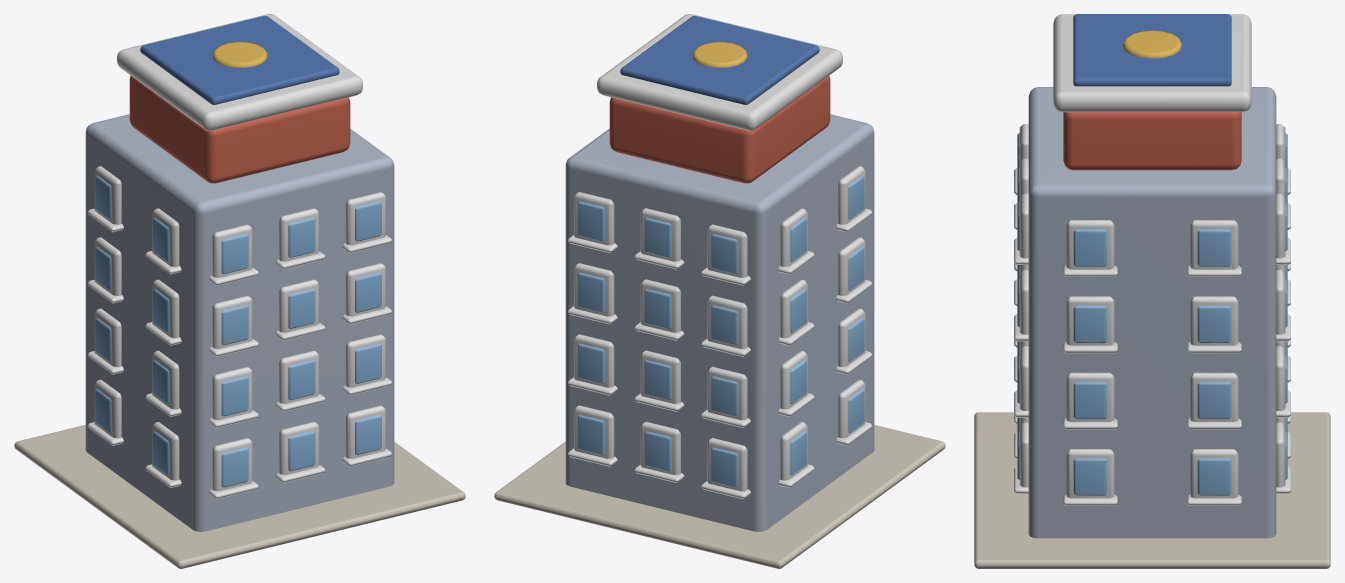
The picture shows the model from 3 angles, left to right: view 1: azimuth 30°, elevation 25°; view 2: azimuth 150°, elevation 25°; view 3: azimuth 270°, elevation 25°; orthographic projection. The views are drawn at different scales.
Parts seen in each view (by area): view 1: Cube; view 2: Cube; view 3: Cube.
Boxes of the visible parts, box(x1,y1,x2,y2) form: Cube: box(14, 14, 465, 568); Cube: box(494, 14, 945, 568); Cube: box(974, 14, 1330, 568).
Bounding box in the file's own units: 0.72 × 1.01 × 0.72.
